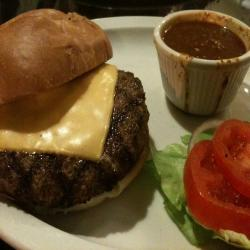burger: (1, 8, 157, 220)
ketchup: (149, 12, 250, 114)
salad: (155, 134, 198, 242)
